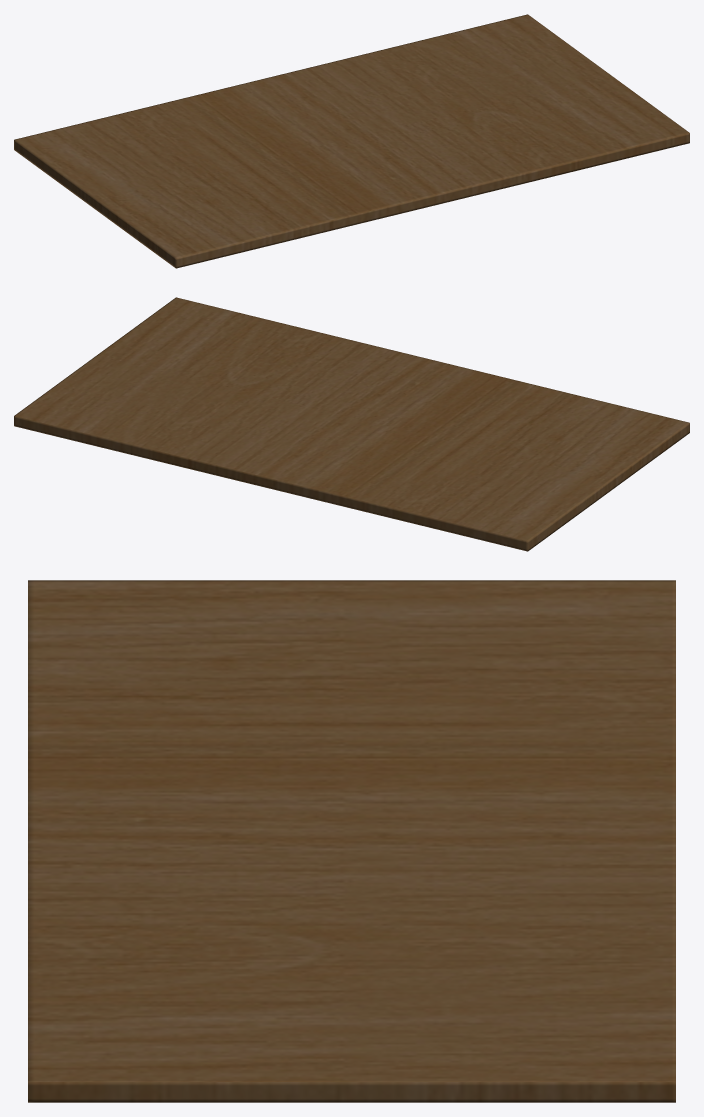
Rendered from Wood.gltf.
The picture shows the model from 3 angles, top to bottom: view 1: azimuth 30°, elevation 25°; view 2: azimuth 150°, elevation 25°; view 3: azimuth 270°, elevation 25°; orthographic projection. The views are drawn at different scales.
Visible parts, largest first — view 1: Wood; view 2: Wood; view 3: Wood.
Boxes of the visible parts, bbox=[...] form: Wood: bbox=[14, 14, 689, 268]; Wood: bbox=[14, 297, 689, 551]; Wood: bbox=[28, 580, 675, 1102].
Size of the model in its own units: 2.07 by 0.0395 by 1.13.
Materials: 1 (1 with a texture image).
